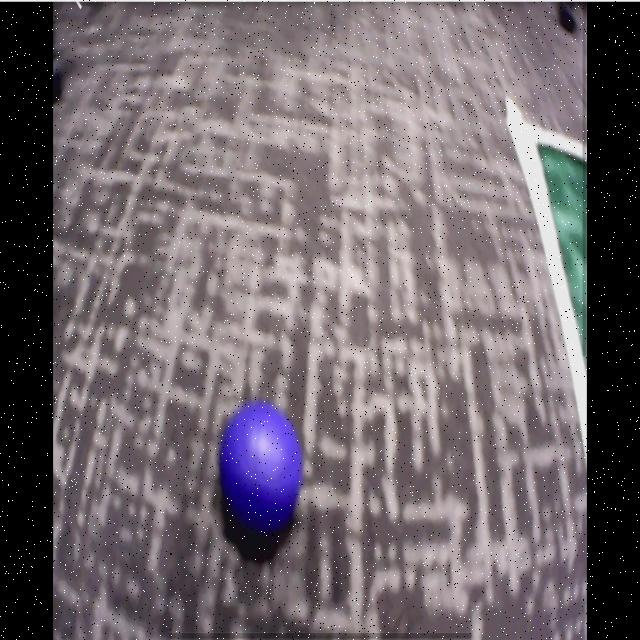ball: (219, 408, 305, 539)
